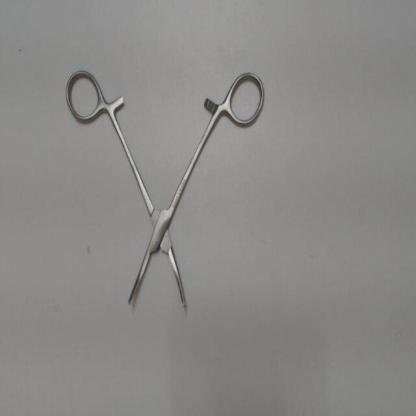Crile Artery Forceps: (54, 58, 272, 321)
